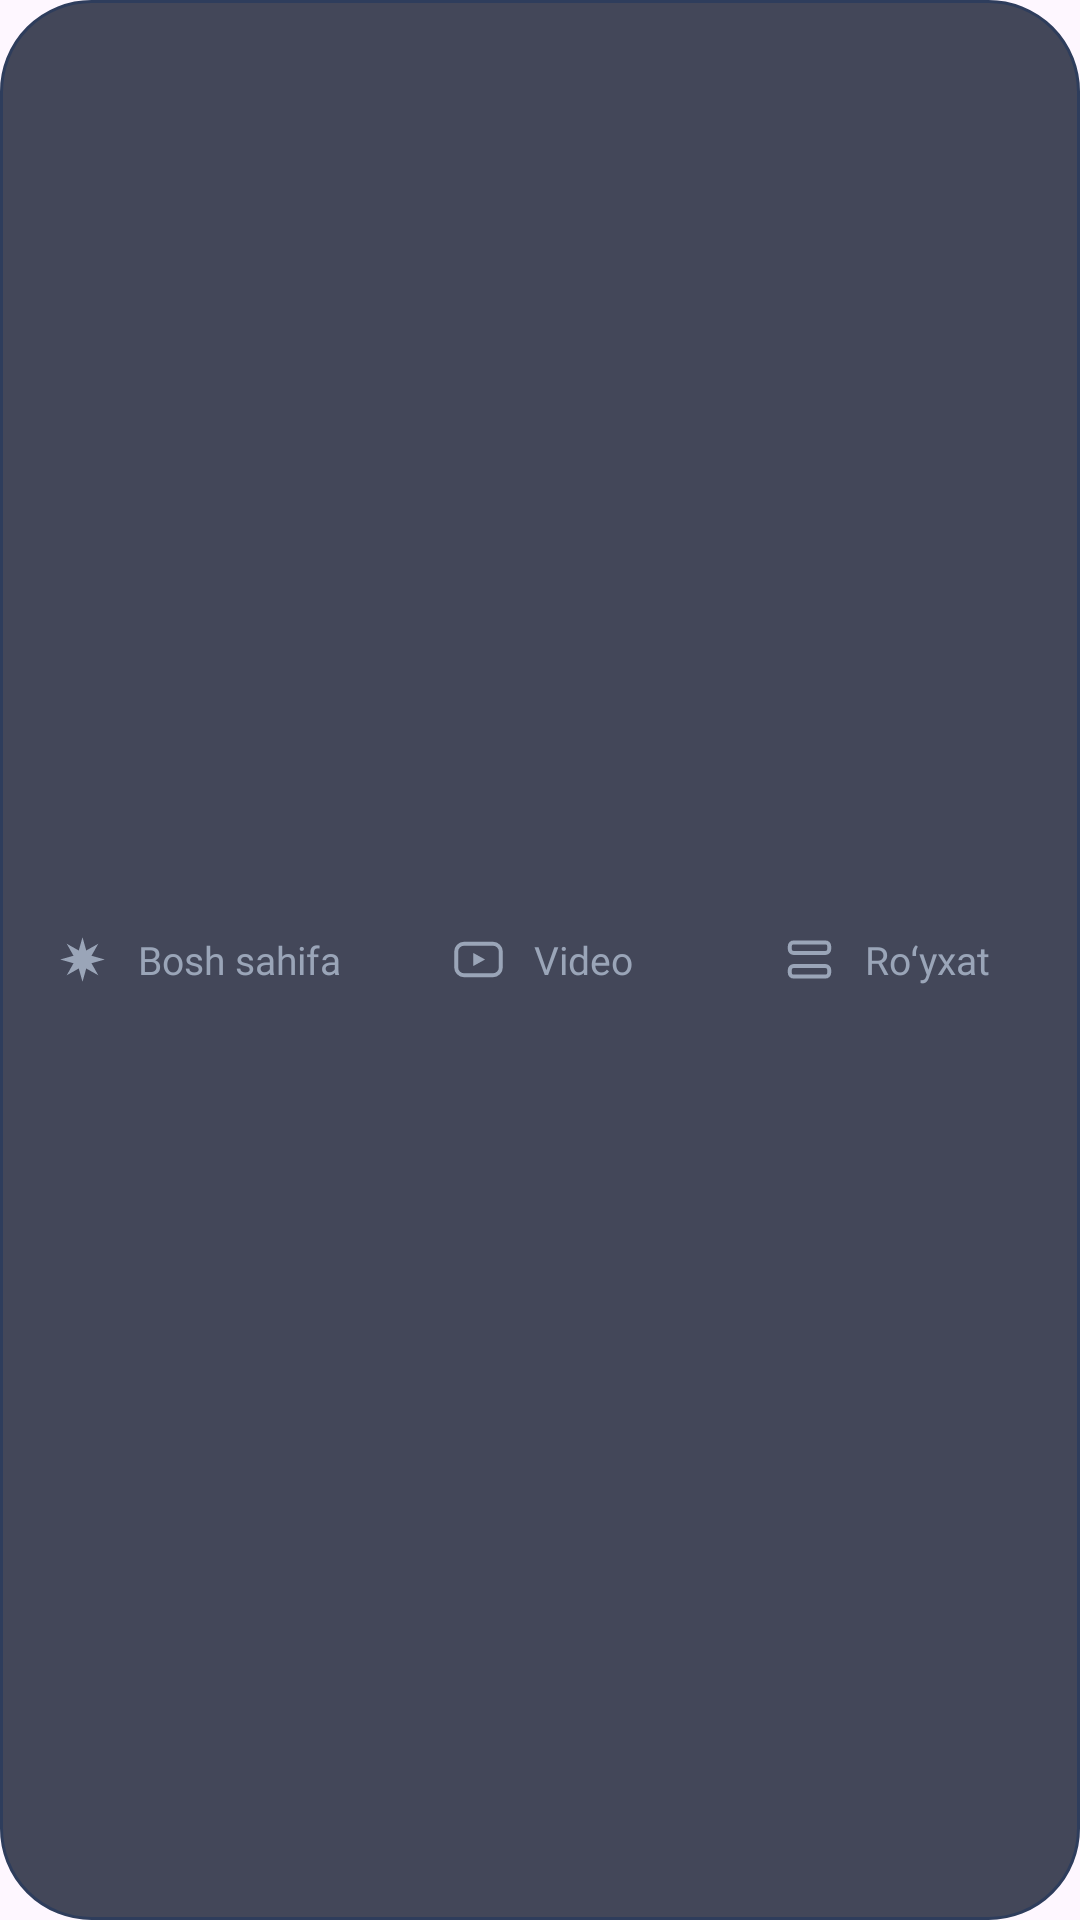

Icons on this 1080px x 1920px Android screen, each with its box as box=[x1, y1, x2, y2]:
list: box=[788, 940, 831, 979]
